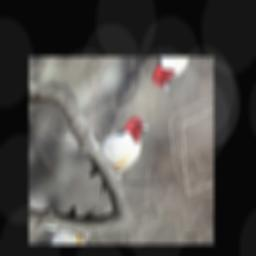Woodpecker: (78, 105, 156, 209)
